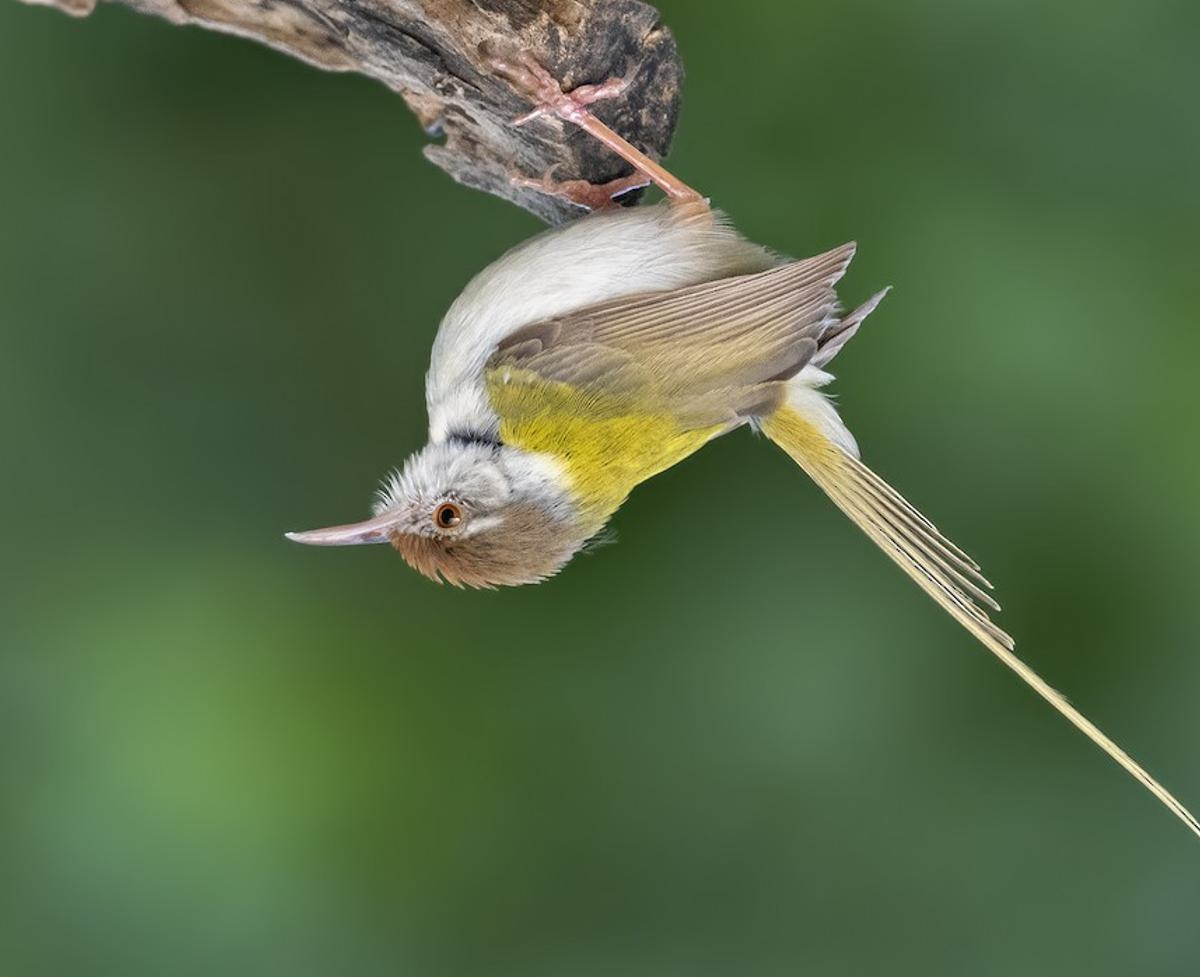tailorbird: (242, 64, 1041, 753)
